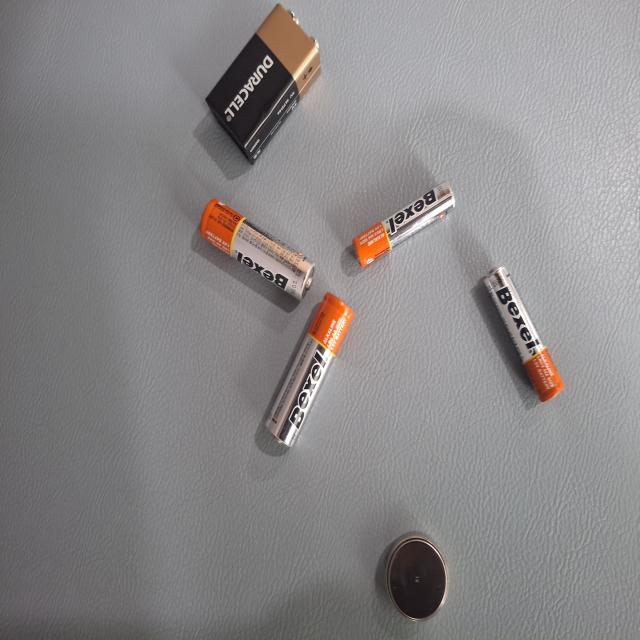9V: (2, 426, 122, 578)
AA: (218, 385, 334, 497), (150, 433, 227, 585)
AAA: (197, 101, 302, 213), (137, 247, 198, 380)
COIN: (399, 255, 466, 341)
